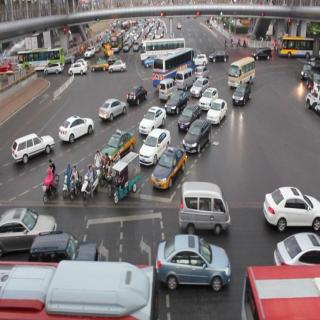BigCar: (140, 36, 186, 64), (17, 49, 65, 73), (278, 34, 315, 58), (226, 58, 258, 84)
Car: (155, 238, 233, 293), (178, 179, 228, 234), (262, 187, 320, 229), (0, 209, 56, 244), (273, 232, 320, 266), (151, 147, 185, 191), (12, 138, 53, 162), (102, 126, 134, 155), (183, 123, 209, 155), (59, 116, 93, 140), (140, 131, 164, 161), (141, 104, 166, 132), (98, 98, 126, 119), (207, 100, 228, 128), (167, 91, 187, 115), (233, 84, 250, 110), (68, 59, 88, 78), (178, 105, 198, 124), (128, 86, 147, 105), (198, 89, 215, 108), (175, 68, 191, 88), (209, 48, 227, 65), (191, 74, 206, 94), (253, 46, 271, 62), (44, 62, 63, 77), (92, 58, 107, 72), (109, 62, 126, 74), (84, 45, 95, 59), (103, 44, 114, 56), (122, 43, 129, 52)
